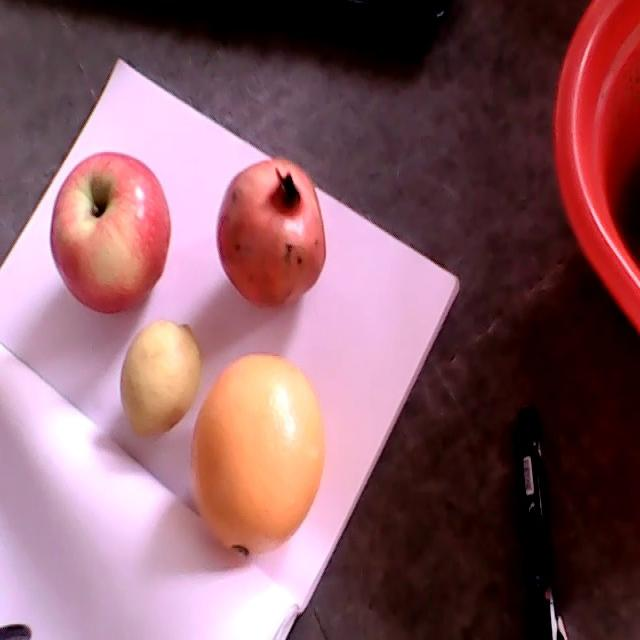apple: (50, 152, 170, 314)
lemon: (120, 321, 201, 440)
orange: (190, 351, 325, 558)
pomegranate: (217, 158, 326, 307)
